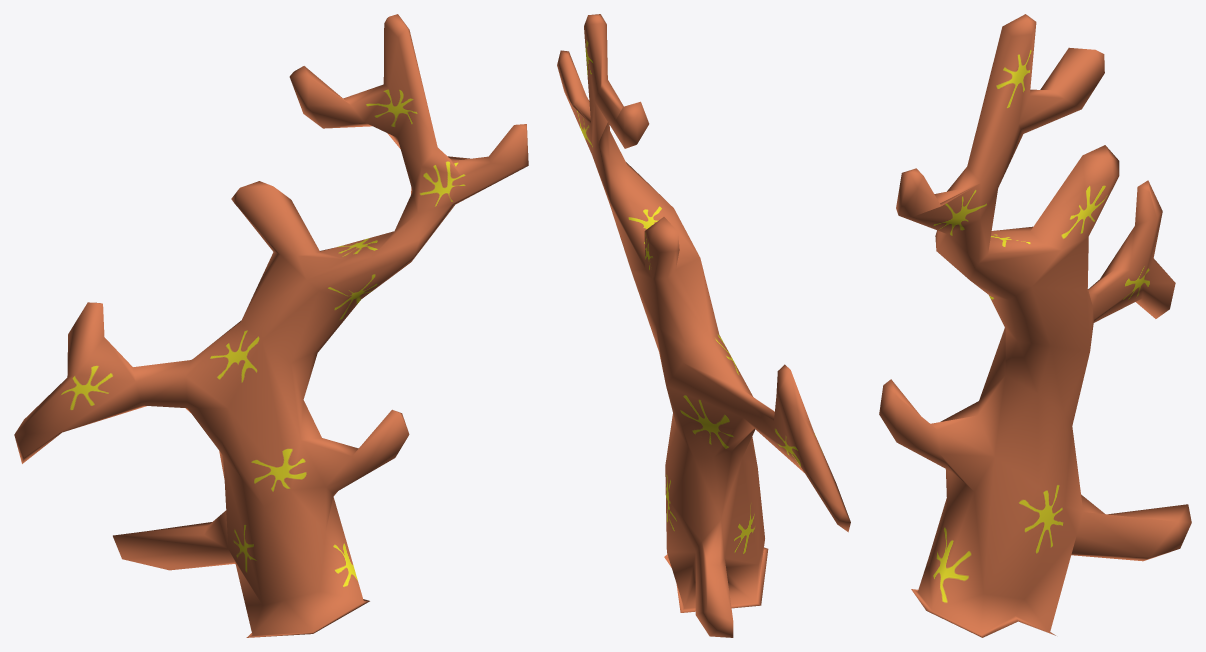
Rendered from object_45.004_lev3.glb.
3 views of the same model, side by side, from view 1: azimuth 30°, elevation 25°; view 2: azimuth 150°, elevation 25°; view 3: azimuth 270°, elevation 25° (orthographic). The views are drawn at different scales.
Parts seen in each view (by area): view 1: object_45.004_lev3; view 2: object_45.004_lev3; view 3: object_45.004_lev3.
Boxes of the visible parts, x1,y1,x2,y2 form: object_45.004_lev3: (14,14,528,637); object_45.004_lev3: (557,14,850,637); object_45.004_lev3: (879,14,1191,637).
Size of the model in its own units: 2.31 by 3.18 by 1.33.
1 material, 1 textured.
